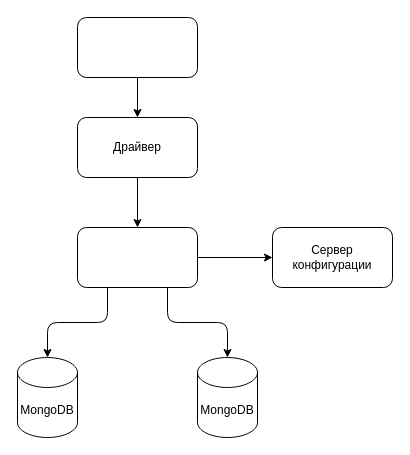
Some shapes in this 410 by 455 pixel diagram are drawn without their labels. Each missing label, with the centre of its shape:
pymongo-api: the point at 137,47
Роутер: the point at 137,257
